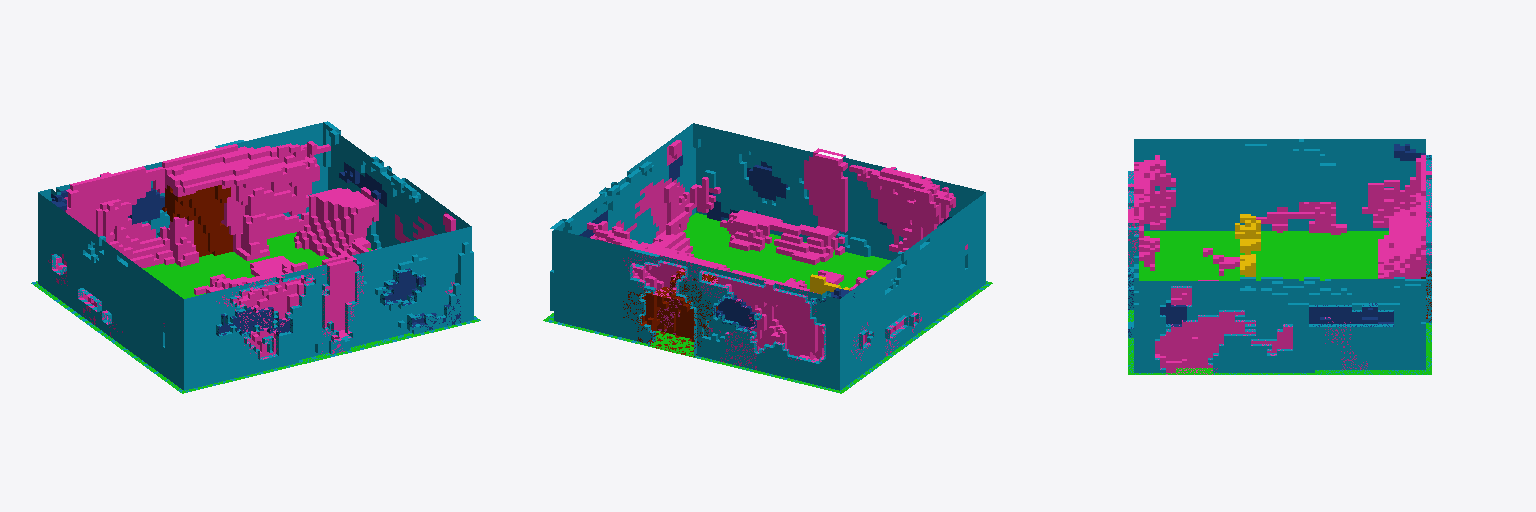
The model's file is Input_prediction.obj.
3 renders of one model, left to right at view 1: azimuth 30°, elevation 25°; view 2: azimuth 150°, elevation 25°; view 3: azimuth 270°, elevation 25°, orthographic.
Parts seen in each view (by area): view 1: Cube; view 2: Cube; view 3: Cube.
Boxes of the visible parts, x1,y1,x2,y2 form: Cube: [31, 121, 480, 393]; Cube: [543, 123, 992, 393]; Cube: [1128, 139, 1431, 374].
Size of the model in its own units: 5.2 by 1.52 by 4.56.